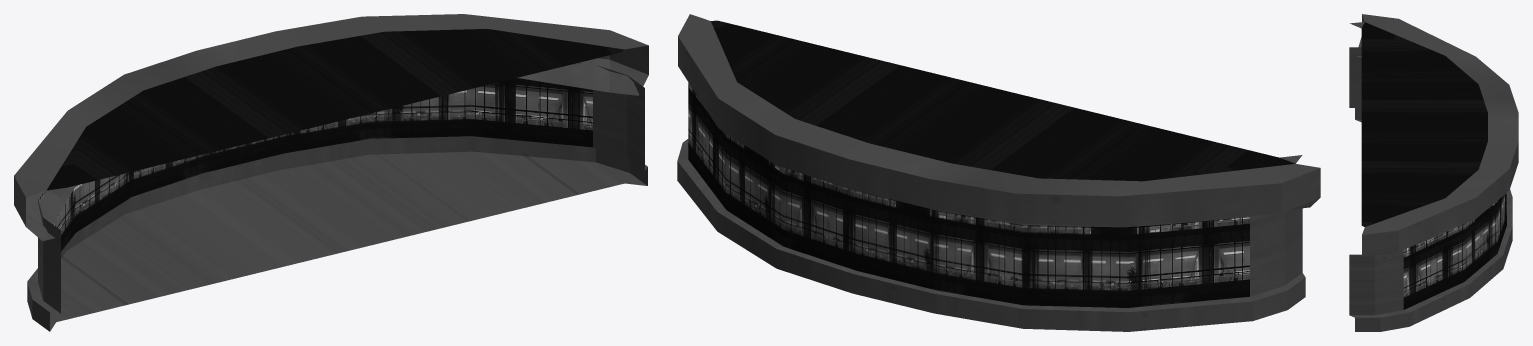
The model's file is SM_BuildingTopRounded.FBX.
The picture shows the model from 3 angles, left to right: view 1: azimuth 30°, elevation 25°; view 2: azimuth 150°, elevation 25°; view 3: azimuth 270°, elevation 25°; orthographic projection. The views are drawn at different scales.
Visible parts, largest first — view 1: SM_BuildingTopRounded; view 2: SM_BuildingTopRounded; view 3: SM_BuildingTopRounded.
Part boxes in pixels (bbox=[...]): SM_BuildingTopRounded: bbox=[14, 14, 648, 331]; SM_BuildingTopRounded: bbox=[677, 14, 1320, 331]; SM_BuildingTopRounded: bbox=[1349, 14, 1518, 331].
Bounding box in the file's own units: 1920 × 400 × 621.
